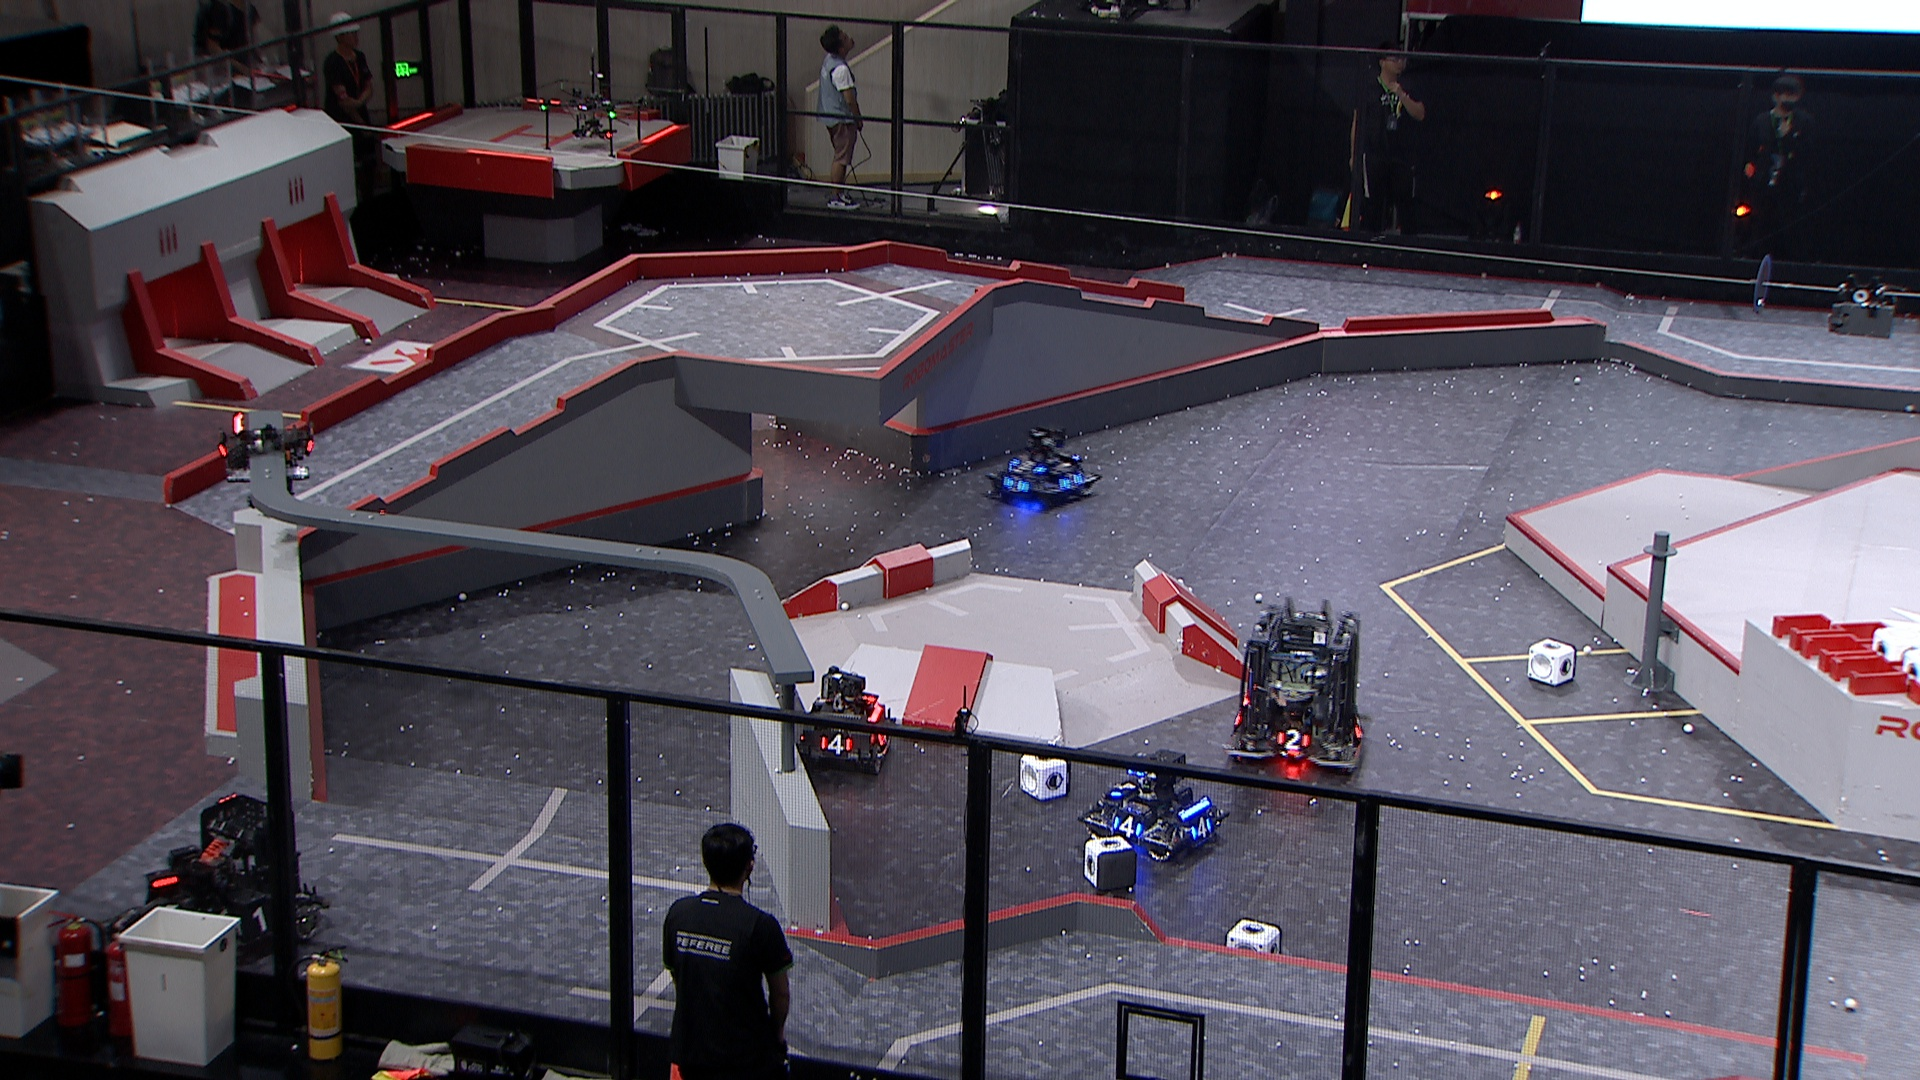armor: (233, 906, 272, 938), (1276, 728, 1309, 754), (1112, 816, 1145, 841), (820, 732, 855, 756), (1007, 458, 1046, 476), (1188, 815, 1215, 840), (1110, 779, 1139, 802), (1000, 476, 1030, 495), (1055, 472, 1084, 491), (1352, 717, 1367, 740)
car: (112, 793, 334, 975), (1225, 600, 1370, 778), (1073, 752, 1228, 862), (790, 665, 894, 779), (982, 427, 1101, 512)
watcher: (219, 409, 314, 520)
